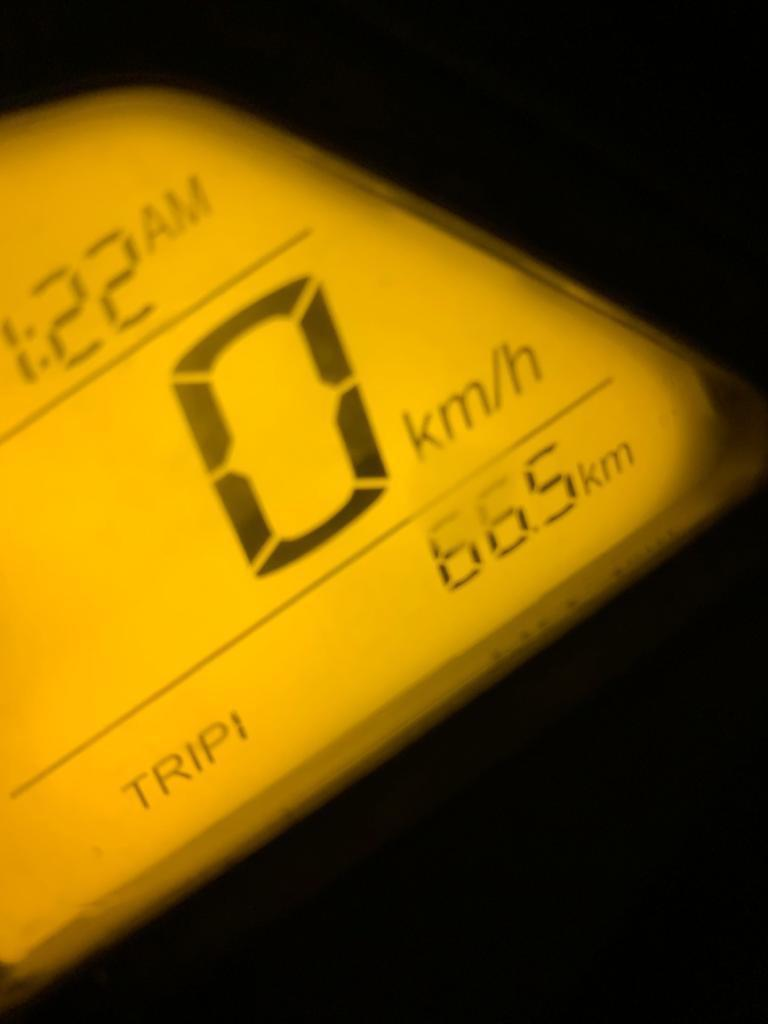,: (530, 519, 541, 538)
0: (169, 276, 391, 579)
1: (1, 312, 37, 389), (226, 702, 255, 748)
2: (30, 261, 110, 368), (81, 225, 155, 332)
5: (518, 440, 578, 526)
6: (421, 508, 483, 594), (474, 474, 531, 561)
X: (500, 335, 549, 395), (439, 377, 490, 434), (167, 171, 212, 230), (401, 406, 442, 459), (135, 199, 178, 248), (151, 752, 192, 798), (20, 321, 53, 370), (600, 438, 637, 480), (114, 769, 150, 812), (196, 721, 229, 765), (488, 347, 507, 412), (576, 452, 603, 495), (182, 740, 203, 773)
odometer: (1, 66, 768, 975)
